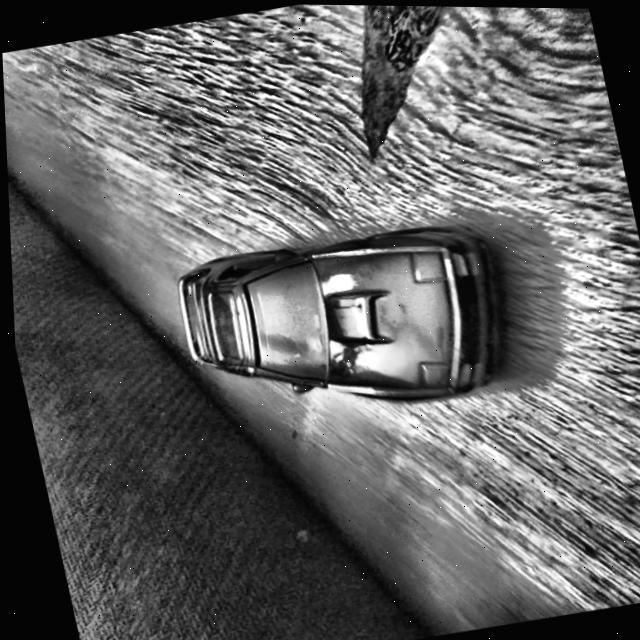car: (163, 207, 520, 439)
